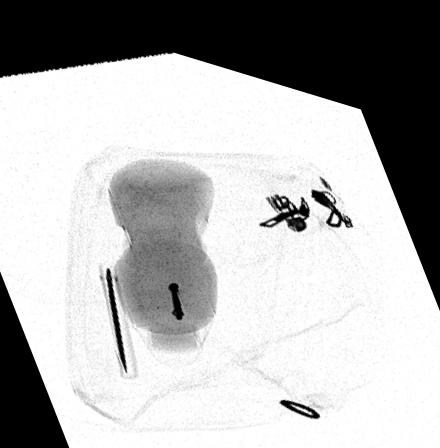Knife: (101, 258, 136, 371)
